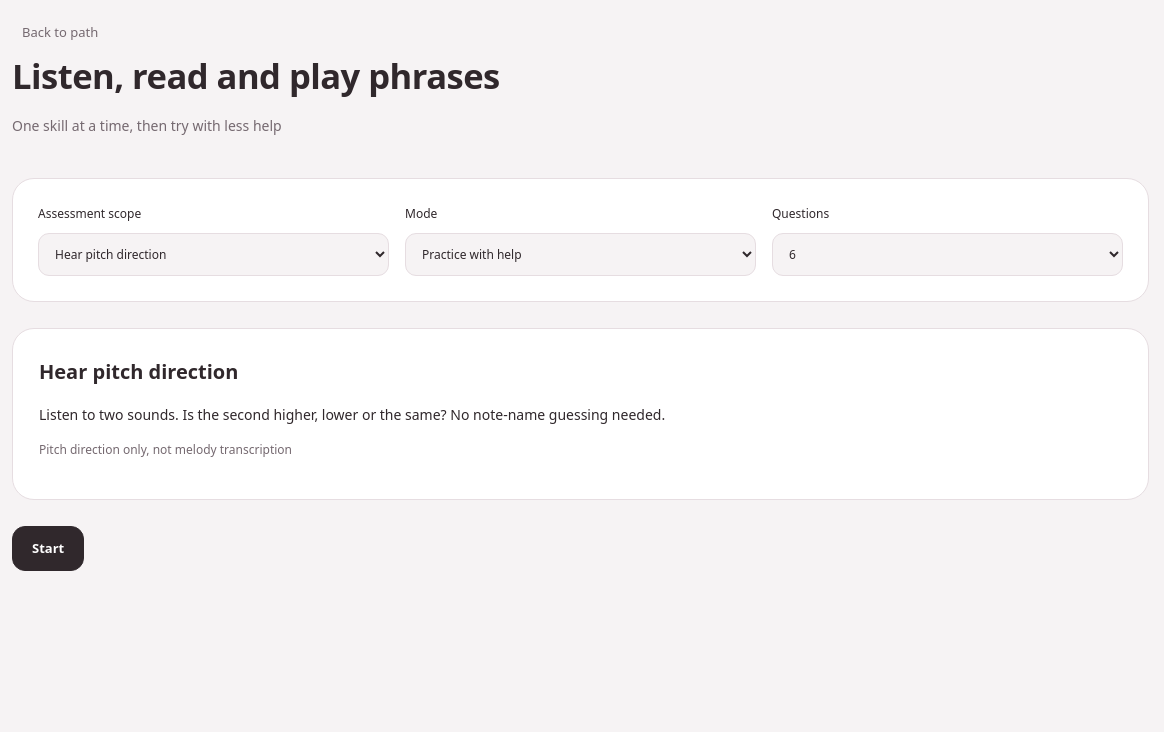
Test case: cannot answer an audio question after failed playback or overwrite malformed history
Step 1. Select "Try independently" in the dropdown labelled "Mode" → x=580, y=254, box [405,233,756,276]
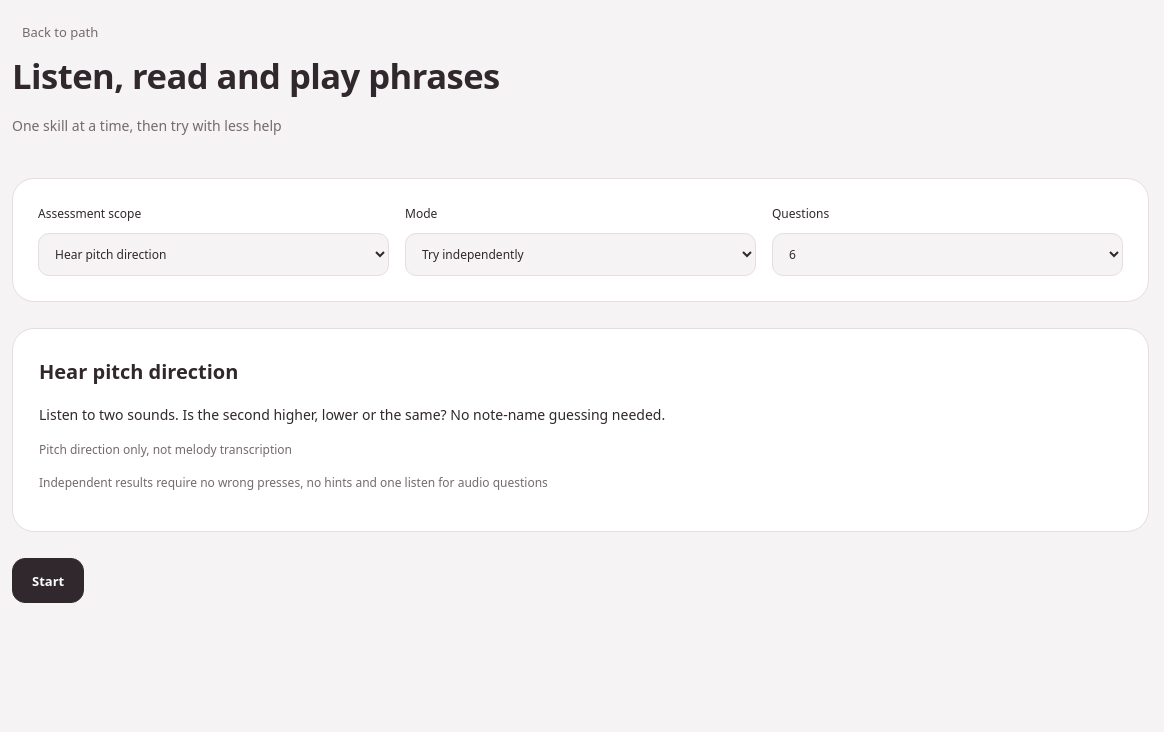
Step 2. Select "3" in the dropdown labelled "Questions" → x=948, y=254, box [772,233,1123,276]
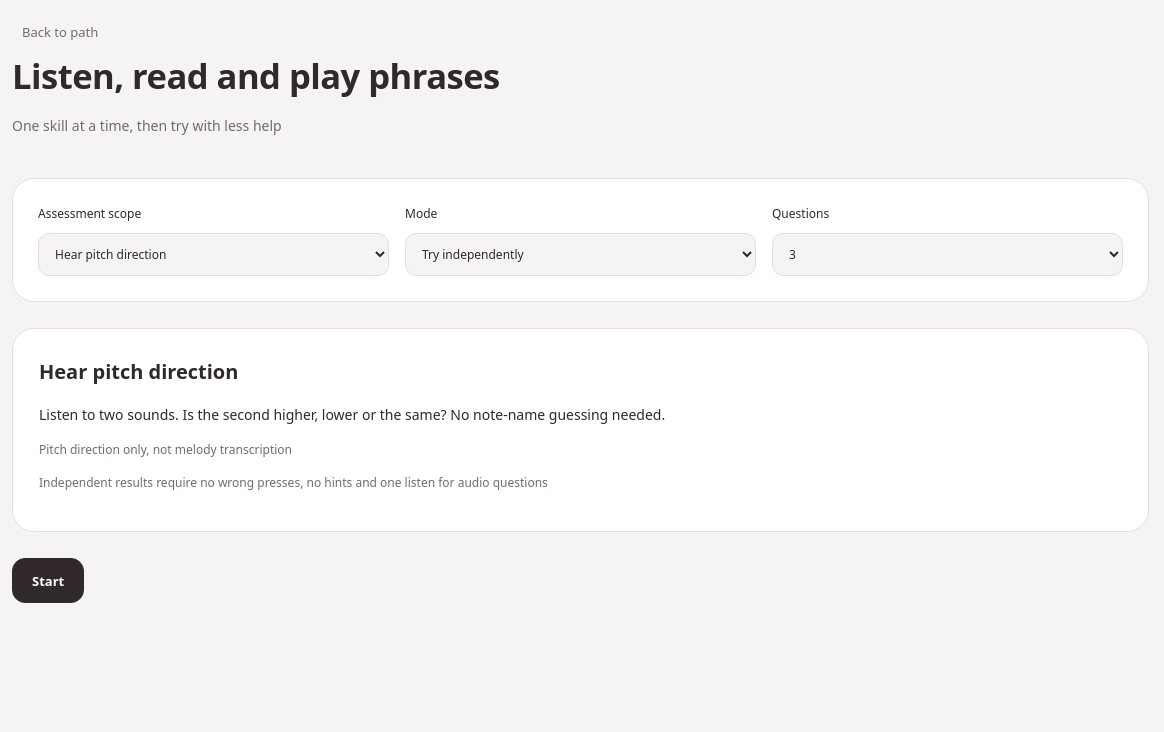
Step 3. Click the button "Start" → x=48, y=581, box [12,558,84,603]
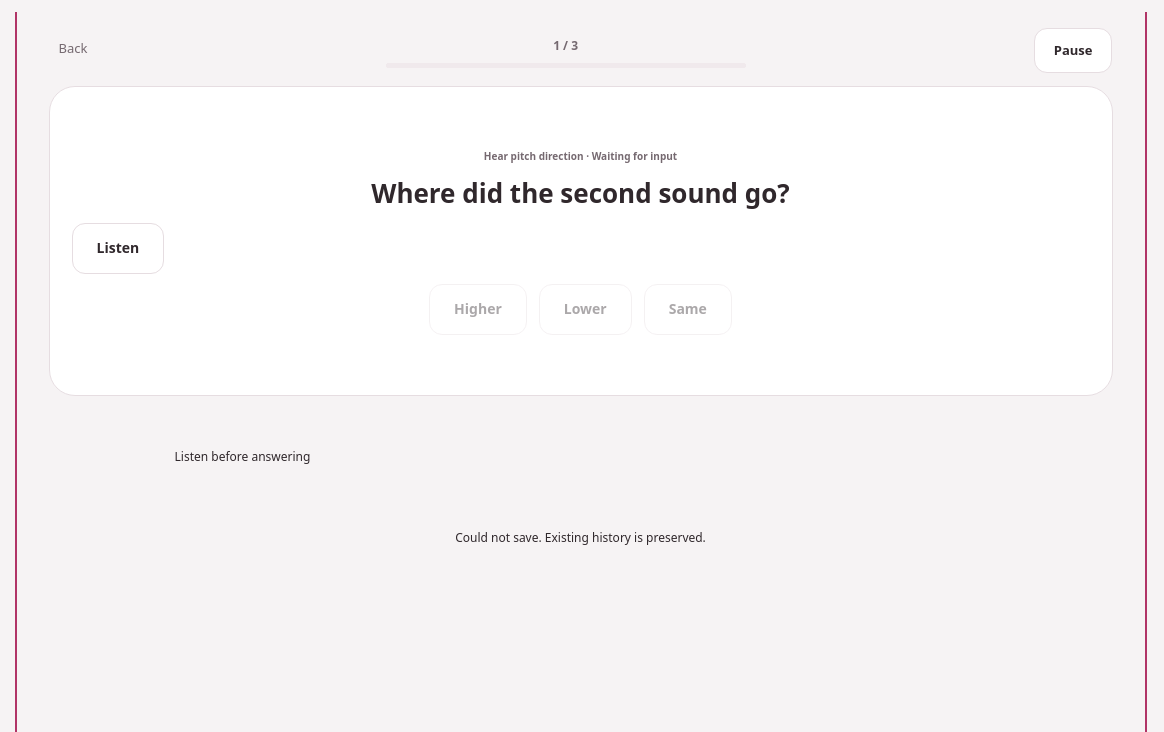
Expected: the button "Higher" is disabled, [429,284,527,335]
Step 4. Click the button "Listen" → x=118, y=248, box [72,223,164,274]
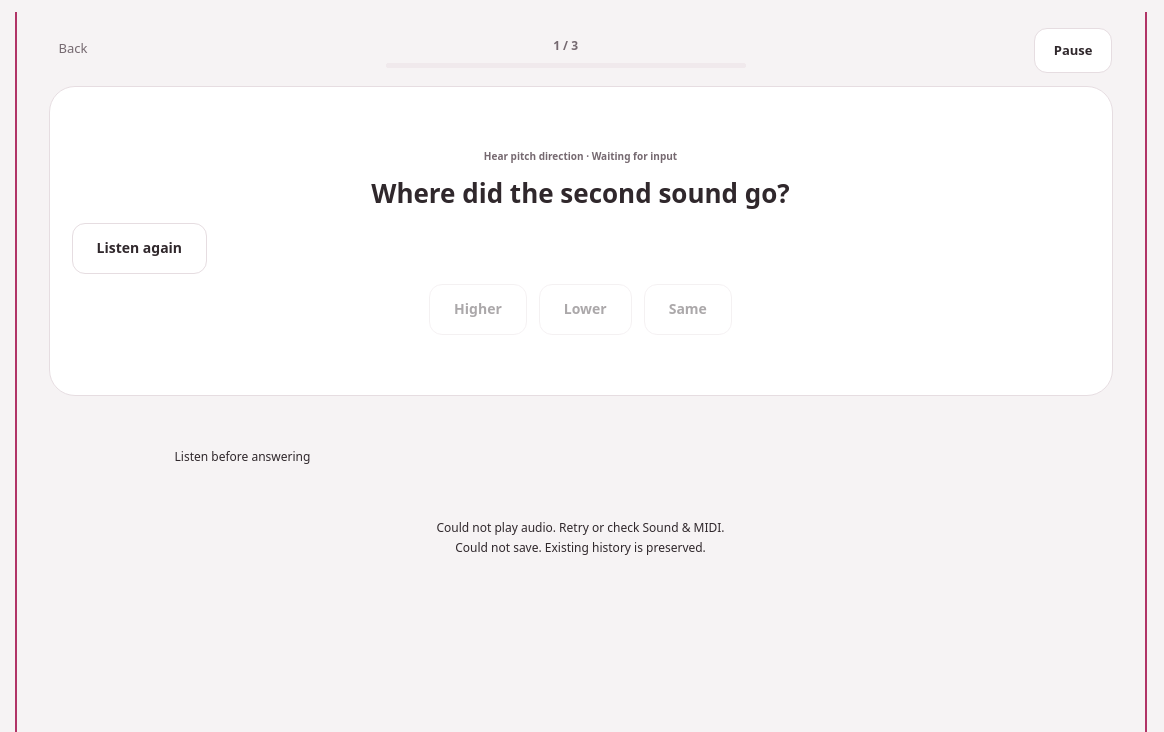
Expected: the button "Higher" is disabled, [429,284,527,335]
Expected: the text "Could not play audio. Retry or check Sound & MIDI." is shown, [436,518,725,538]
